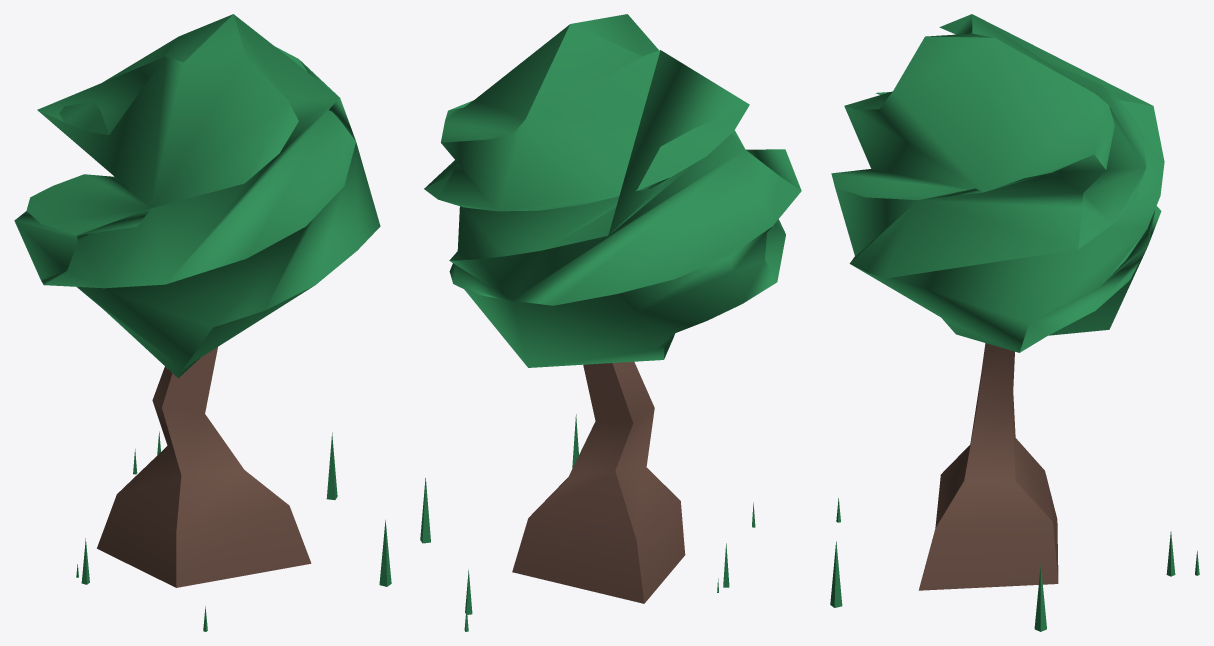
File: tree1.fbx
The picture shows the model from 3 angles, left to right: view 1: azimuth 30°, elevation 25°; view 2: azimuth 150°, elevation 25°; view 3: azimuth 270°, elevation 25°; orthographic projection.
Visible parts, largest first — view 1: pCube2, pCube1; view 2: pCube2, pCube1; view 3: pCube2, pCube1.
Boxes of the visible parts, x1=… form: pCube2: x1=14, y1=14, x2=380, y2=378; pCube1: x1=97, y1=347, x2=311, y2=587; pCube2: x1=424, y1=14, x2=801, y2=367; pCube1: x1=512, y1=361, x2=685, y2=603; pCube2: x1=831, y1=14, x2=1164, y2=352; pCube1: x1=918, y1=343, x2=1058, y2=590.
Bounding box in the file's own units: 7.17 × 11.24 × 7.02.
